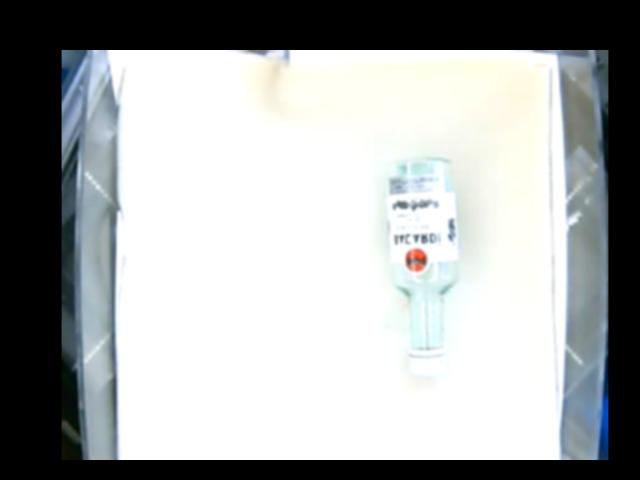Bottle: (385, 157, 464, 375)
